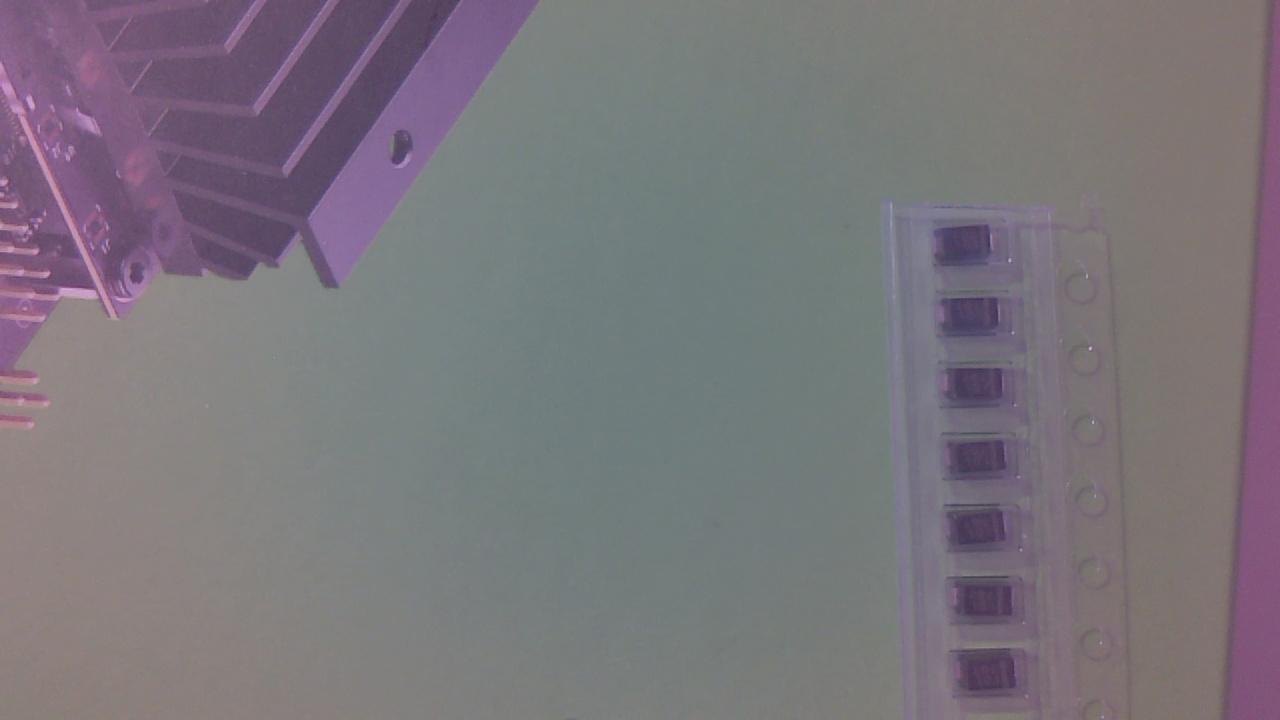Diode: (956, 655, 1027, 699), (946, 510, 1017, 551), (952, 584, 1023, 624), (937, 229, 1004, 271), (941, 298, 1012, 336), (945, 441, 1014, 479), (944, 370, 1015, 406)
